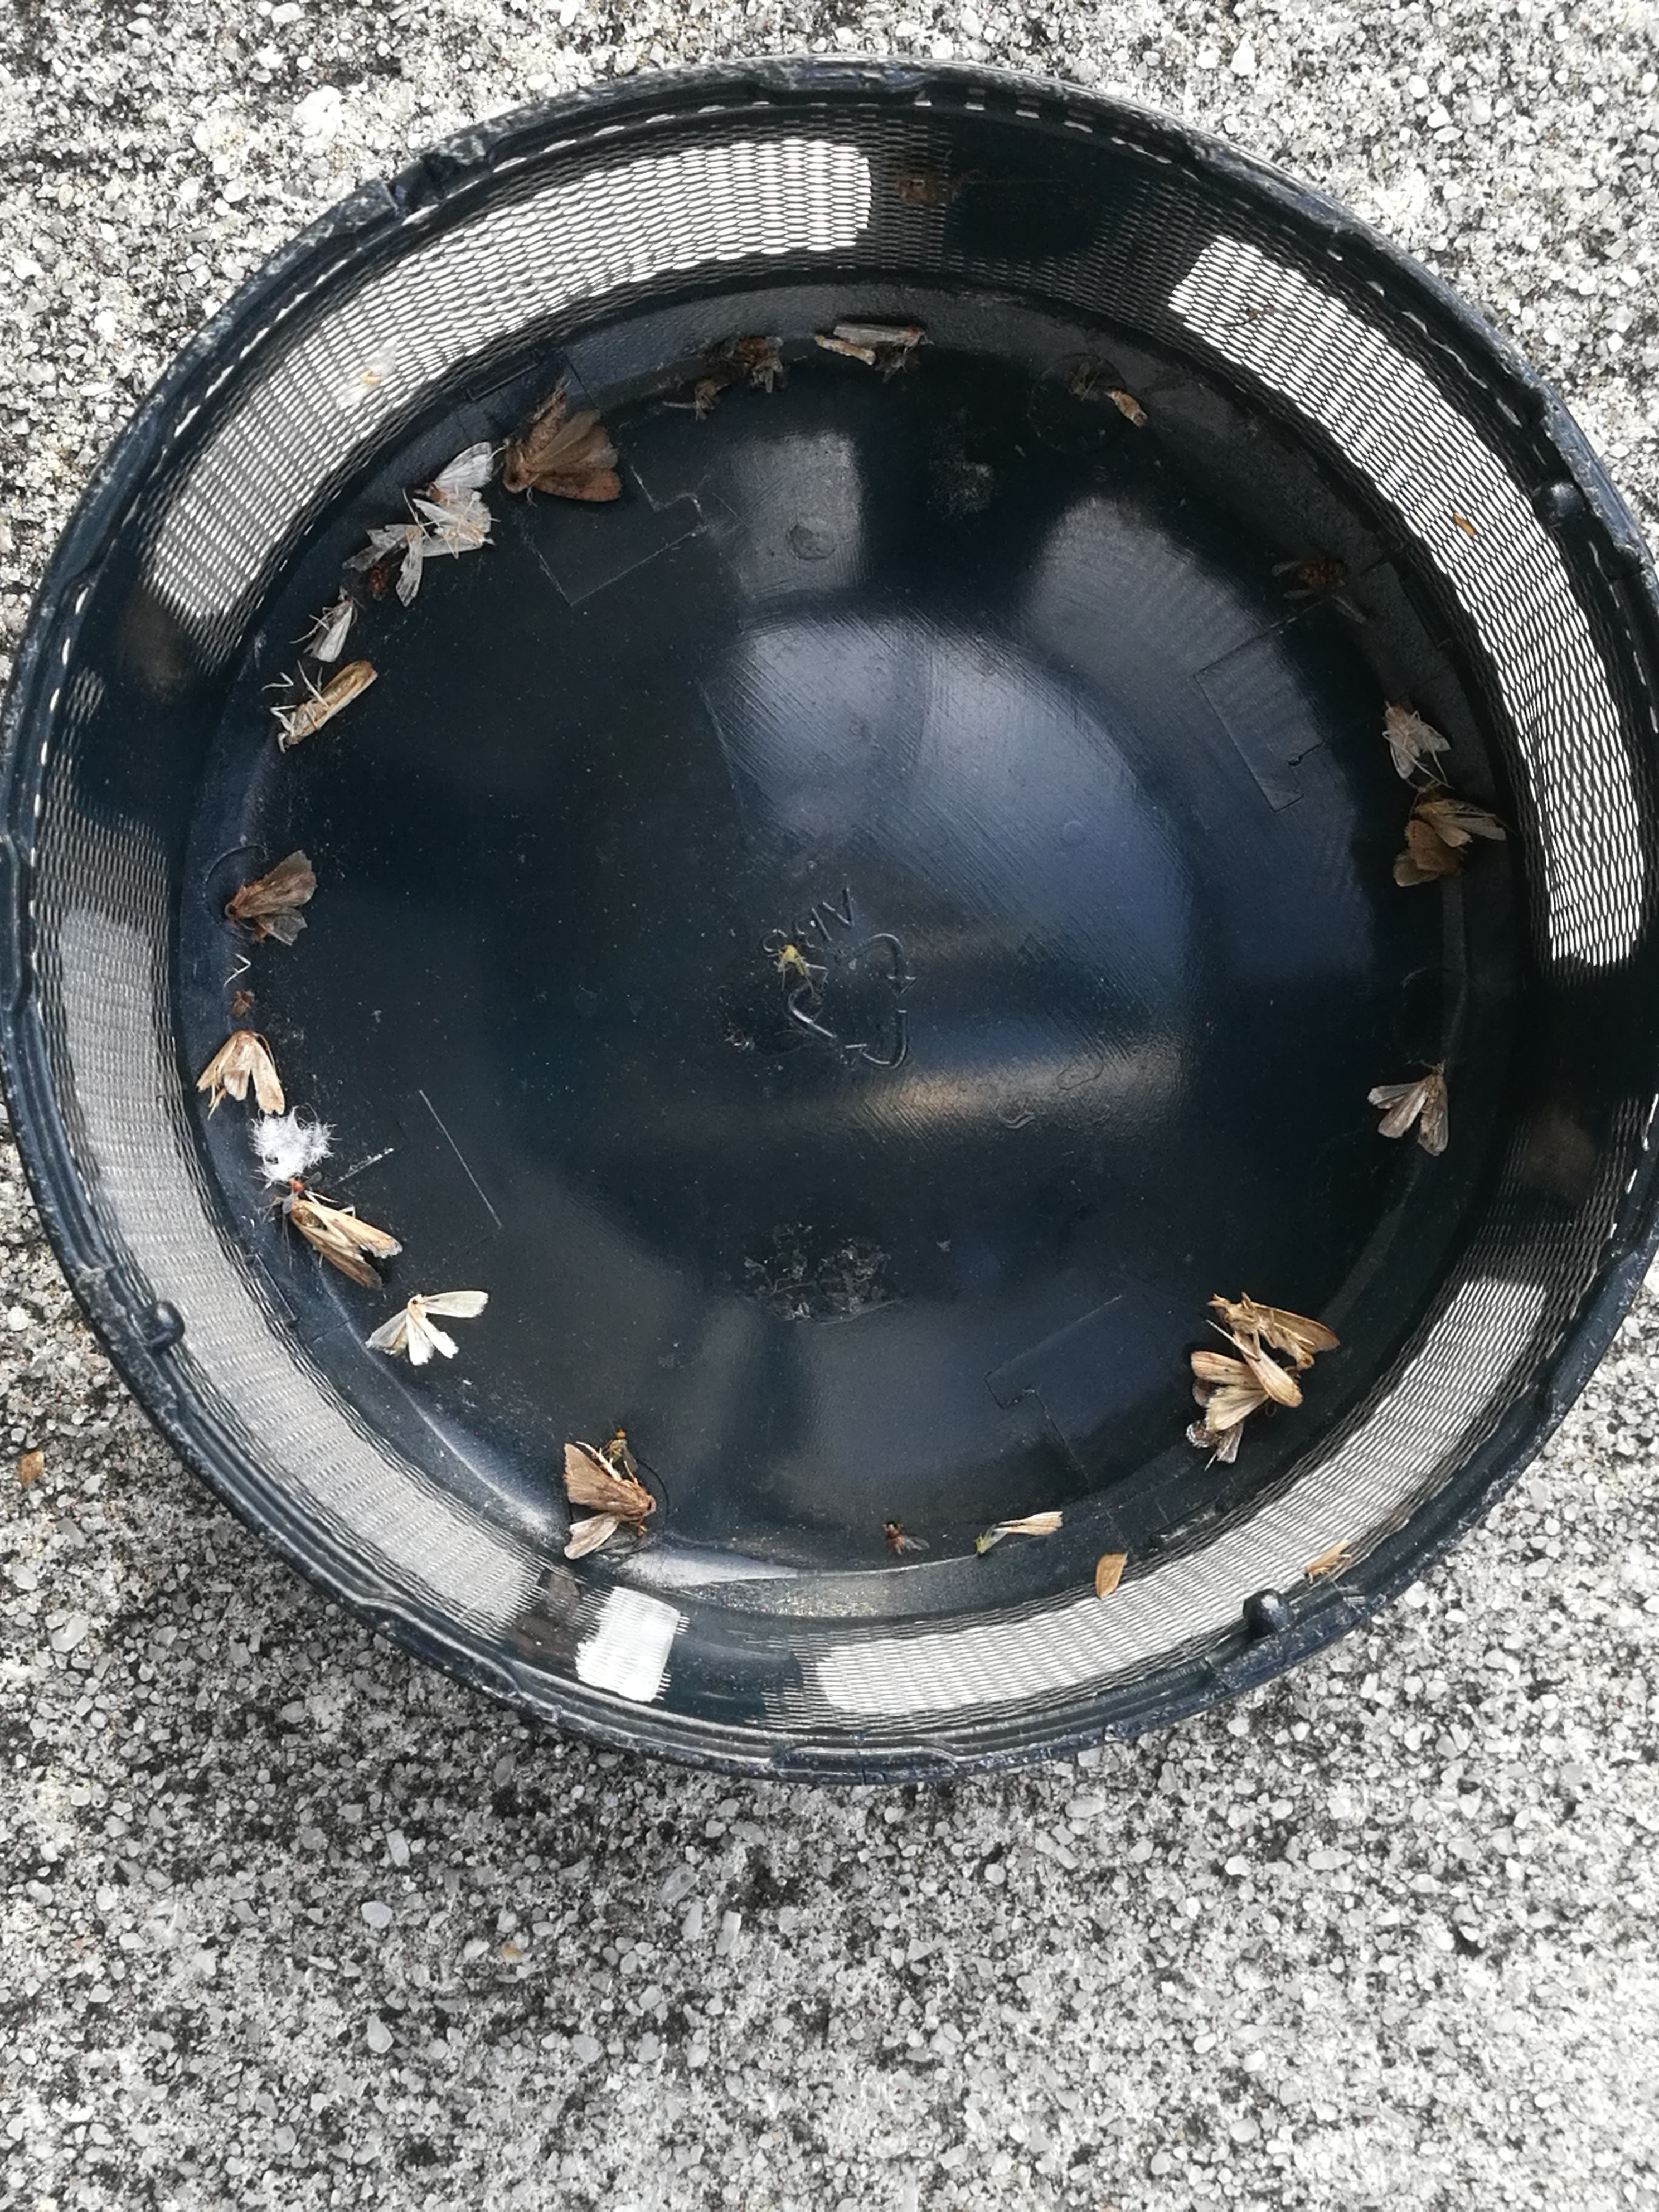mosquito: (284, 660, 376, 745), (835, 322, 931, 347)
moth: (1213, 1296, 1335, 1404), (504, 411, 619, 503), (289, 1200, 401, 1289), (364, 1289, 488, 1366), (225, 850, 315, 944), (197, 1029, 284, 1115), (1188, 1352, 1290, 1425), (1368, 1064, 1446, 1155), (565, 1444, 653, 1519), (423, 441, 491, 531), (366, 523, 429, 604), (1385, 707, 1450, 777), (1391, 822, 1457, 888), (1419, 798, 1502, 846), (307, 585, 355, 664)
